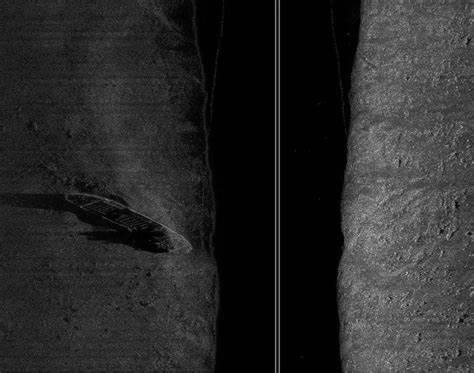ship: (63, 189, 196, 258)
